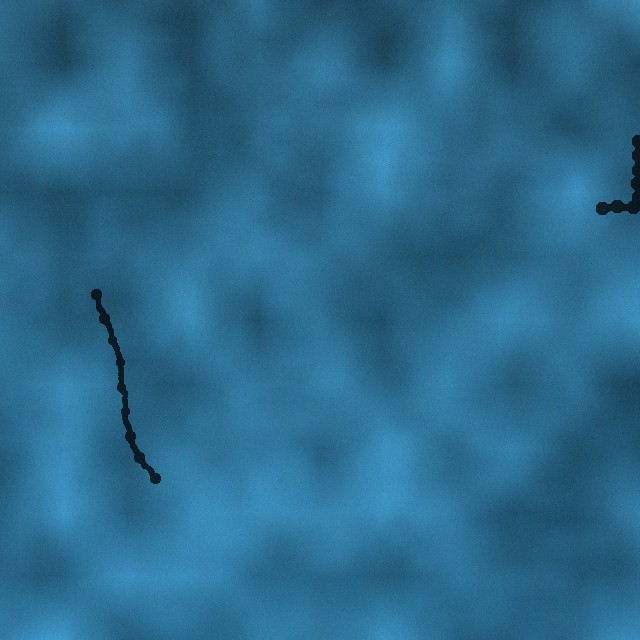crack: (89, 287, 160, 483), (595, 131, 639, 215)
